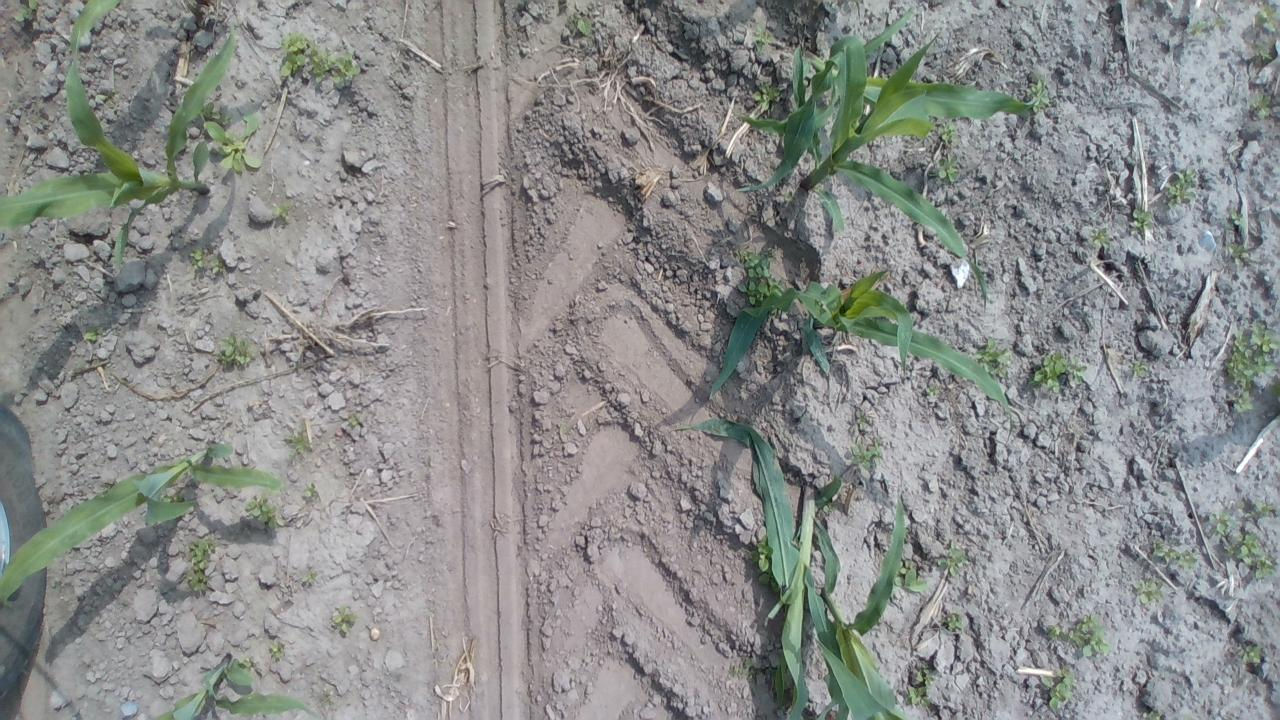Maize: (0, 0, 240, 280), (742, 36, 988, 302), (691, 411, 889, 718), (709, 268, 1015, 425), (2, 437, 286, 604), (804, 5, 1046, 198), (814, 443, 914, 720), (144, 650, 318, 718)
Weeds: (1224, 321, 1276, 417), (278, 30, 362, 86), (202, 106, 266, 178), (737, 246, 786, 310), (1220, 527, 1274, 581), (1030, 350, 1090, 394), (181, 534, 221, 596), (1061, 612, 1113, 658), (212, 331, 260, 370), (1042, 663, 1080, 712), (970, 338, 1012, 381), (1150, 538, 1200, 571), (242, 494, 284, 531), (903, 662, 935, 709), (894, 556, 928, 598), (1022, 77, 1056, 118), (1166, 166, 1199, 207), (754, 536, 778, 588), (848, 438, 884, 472), (939, 540, 970, 578), (1130, 576, 1164, 610), (187, 246, 225, 276), (750, 82, 785, 114), (284, 424, 314, 461), (931, 154, 961, 184), (328, 605, 358, 635), (1236, 640, 1265, 670), (1208, 509, 1236, 540), (1130, 205, 1156, 236), (1186, 15, 1224, 36), (271, 198, 301, 224), (1224, 239, 1252, 266), (751, 22, 774, 54), (938, 610, 965, 636), (1248, 92, 1272, 121), (1243, 500, 1276, 521), (1255, 3, 1278, 32), (13, 0, 40, 24), (1087, 224, 1112, 249), (935, 122, 958, 148), (570, 12, 593, 38), (1252, 42, 1276, 64), (294, 567, 317, 588), (1130, 357, 1151, 380), (234, 658, 258, 678), (1226, 209, 1246, 233), (95, 90, 122, 106), (268, 638, 286, 662), (159, 490, 187, 504), (1137, 706, 1167, 719), (344, 411, 364, 430), (302, 480, 318, 501), (82, 326, 103, 342), (854, 410, 870, 431), (922, 384, 940, 401)
